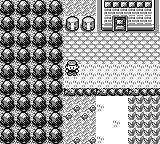captura: (128, 96, 159, 143)
main: (65, 61, 79, 75)
no-caminable: (0, 0, 64, 143), (101, 0, 155, 31), (64, 16, 96, 31)
puerta: (114, 17, 126, 30)
salto: (64, 88, 159, 95)
